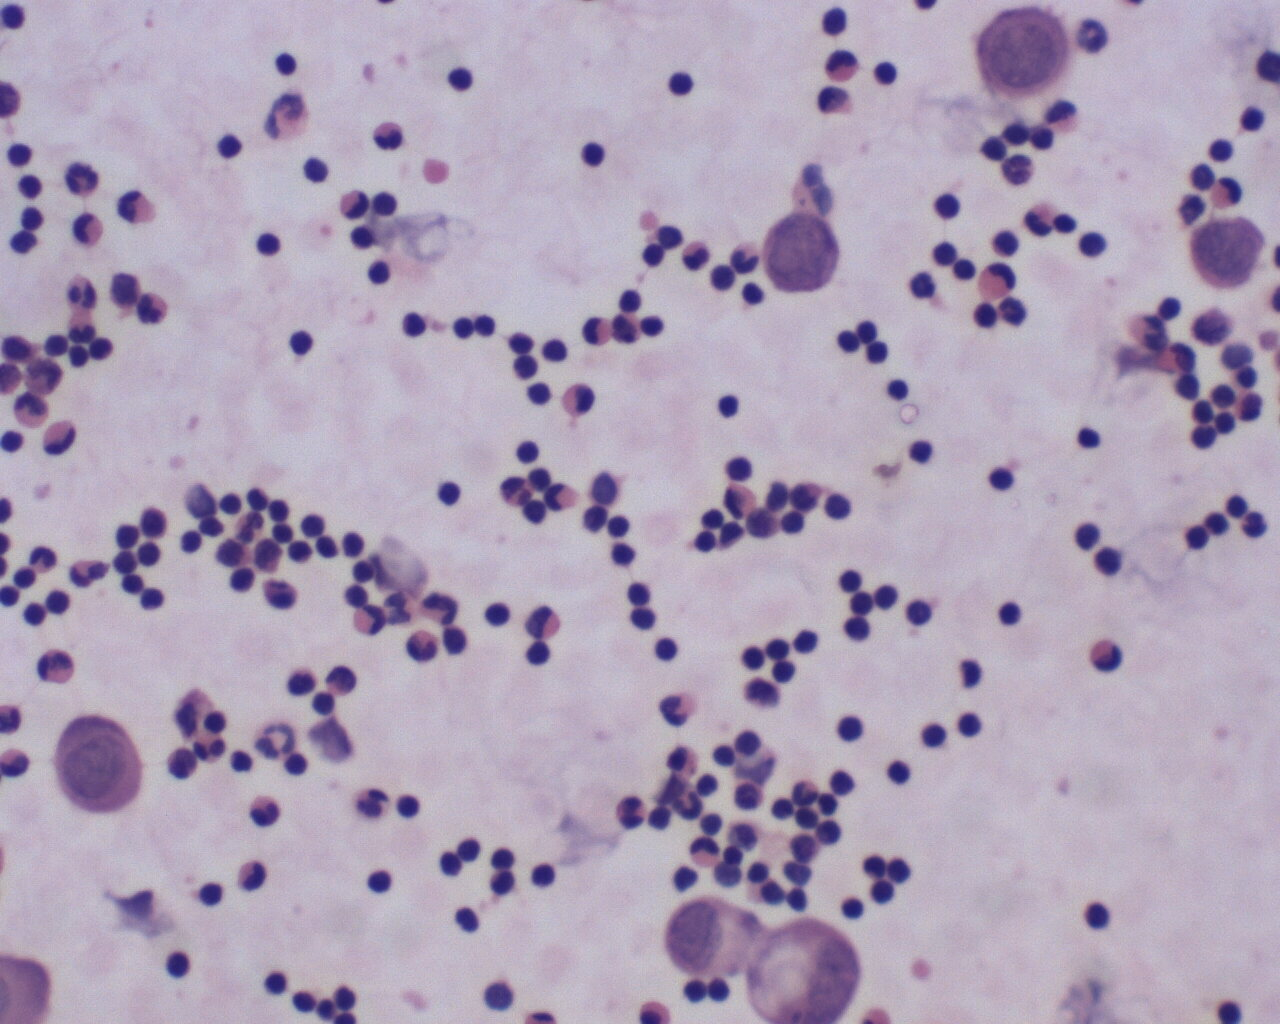ab: (45, 708, 146, 812), (977, 4, 1078, 101), (664, 897, 760, 982), (762, 212, 846, 295), (1193, 214, 1265, 293)
lymph: (157, 944, 203, 990), (829, 709, 872, 752), (526, 854, 567, 897), (1084, 897, 1121, 940), (899, 599, 944, 634), (435, 472, 472, 514), (362, 866, 404, 902), (573, 136, 616, 170), (285, 322, 324, 360), (878, 376, 918, 413), (651, 634, 689, 670), (249, 223, 280, 264), (441, 65, 478, 100), (822, 488, 857, 526), (336, 523, 375, 557), (665, 67, 702, 100), (996, 597, 1032, 630), (986, 460, 1019, 495)
neutro: (30, 639, 82, 690), (62, 156, 108, 202), (369, 114, 409, 157), (131, 292, 174, 330), (612, 793, 651, 834), (186, 727, 229, 763), (248, 792, 285, 831), (1079, 14, 1113, 56)
